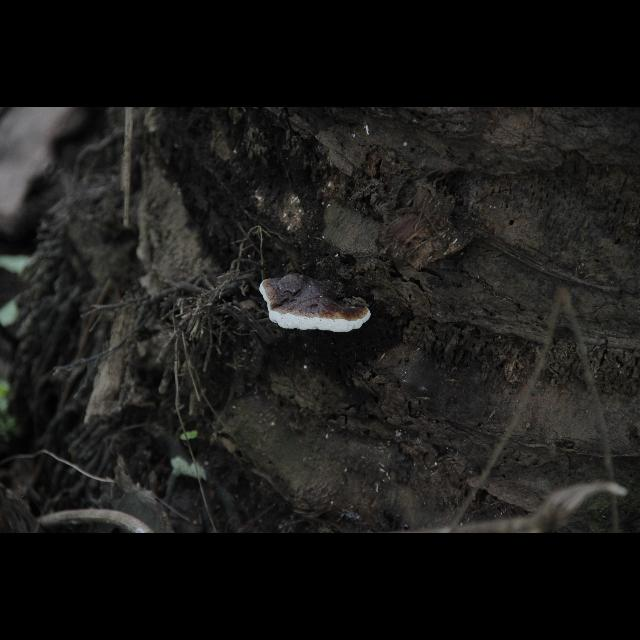ganoderma: (260, 274, 372, 334)
